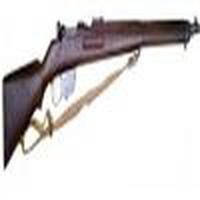gun: (4, 18, 200, 170)
